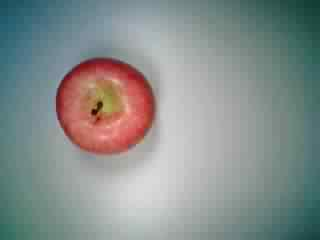apple: (53, 52, 157, 156)
